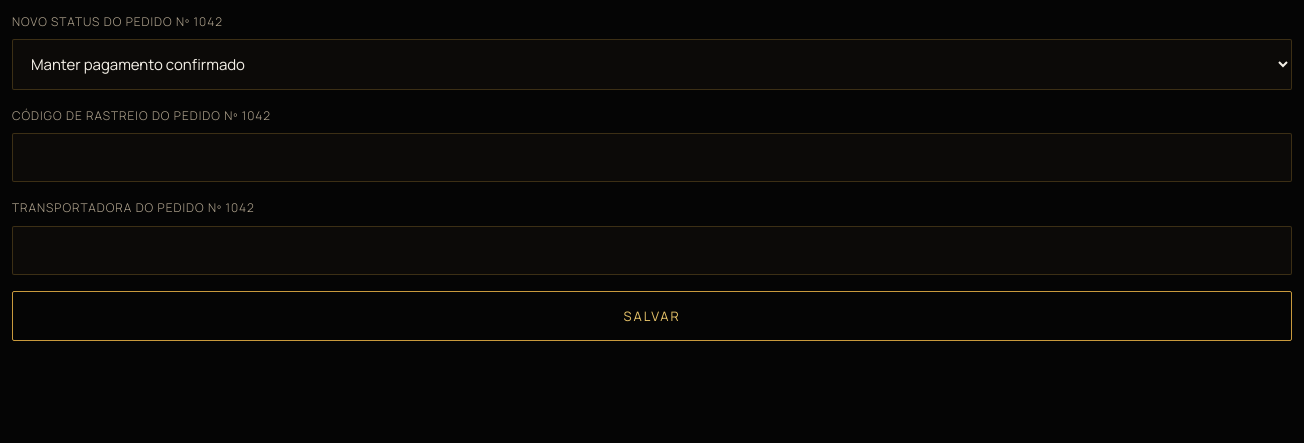
Scenario: ExpedicaoPedido › manda conferir quando a conexao falha
Select "Enviado" in the dropdown labelled "Novo status do pedido nº 1042" at (652, 65), box [12, 39, 1292, 90]
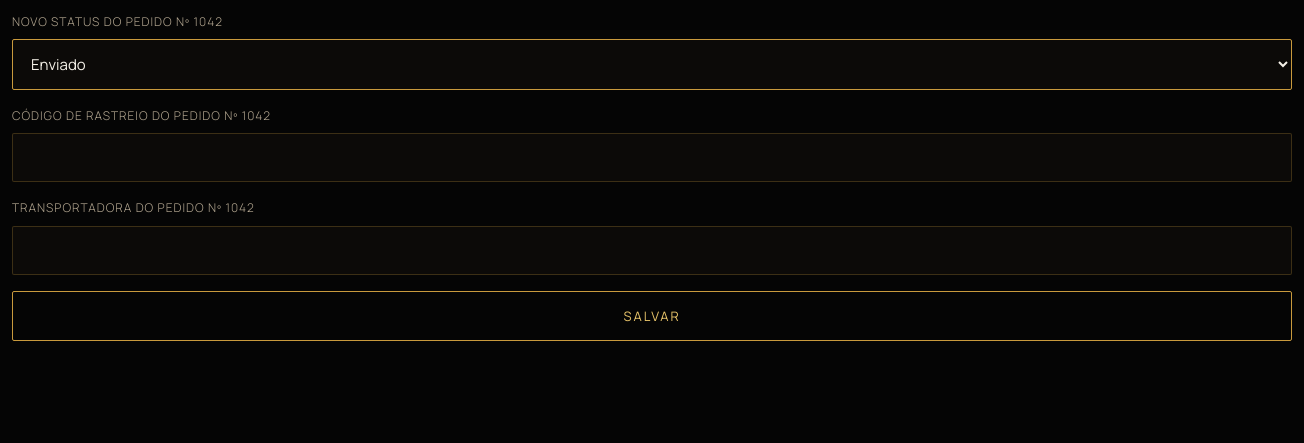
Click the button "Salvar" at (652, 316), box [12, 291, 1292, 341]
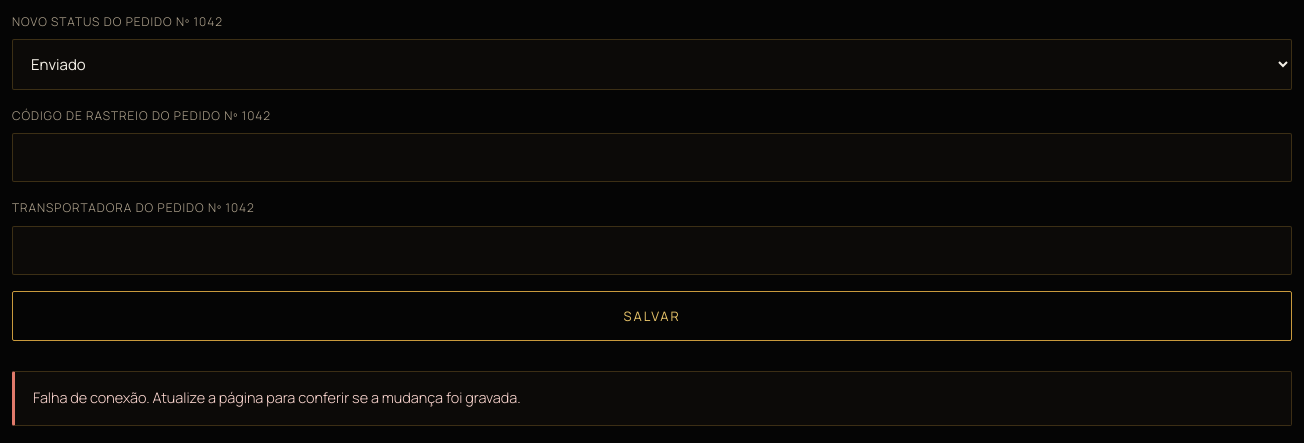
Expected: the message with test id "mensagem-expedicao" shows "Atualize a página para conferir", [33, 388, 521, 407]
